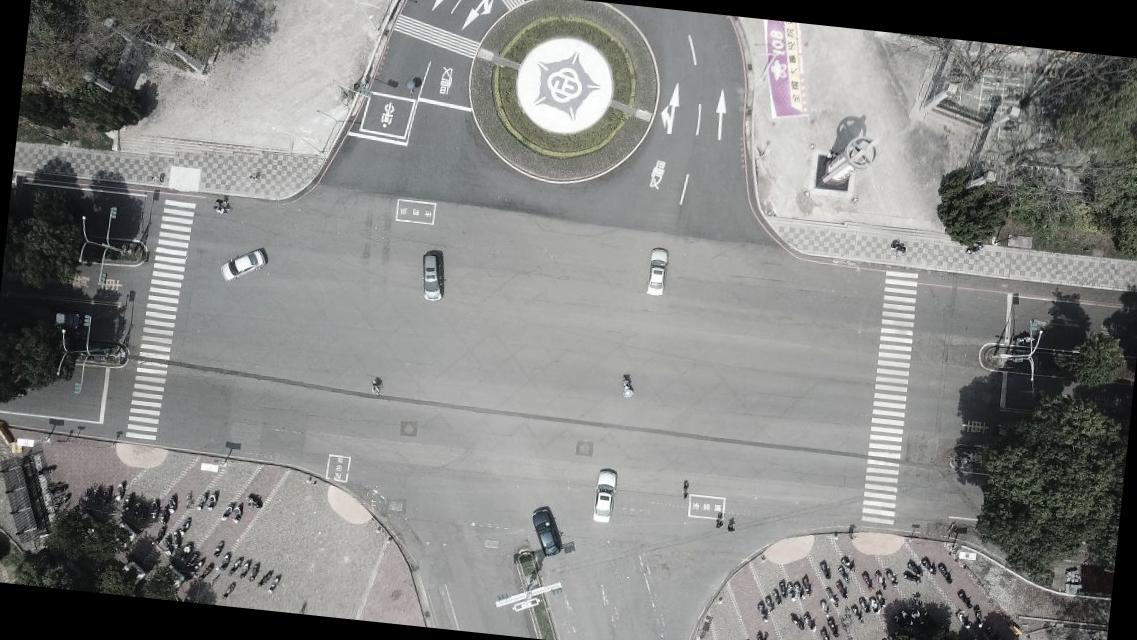vehicle: (524, 503, 568, 560), (216, 243, 270, 286), (416, 250, 448, 304), (590, 466, 618, 524), (644, 243, 671, 298), (32, 306, 78, 331)
